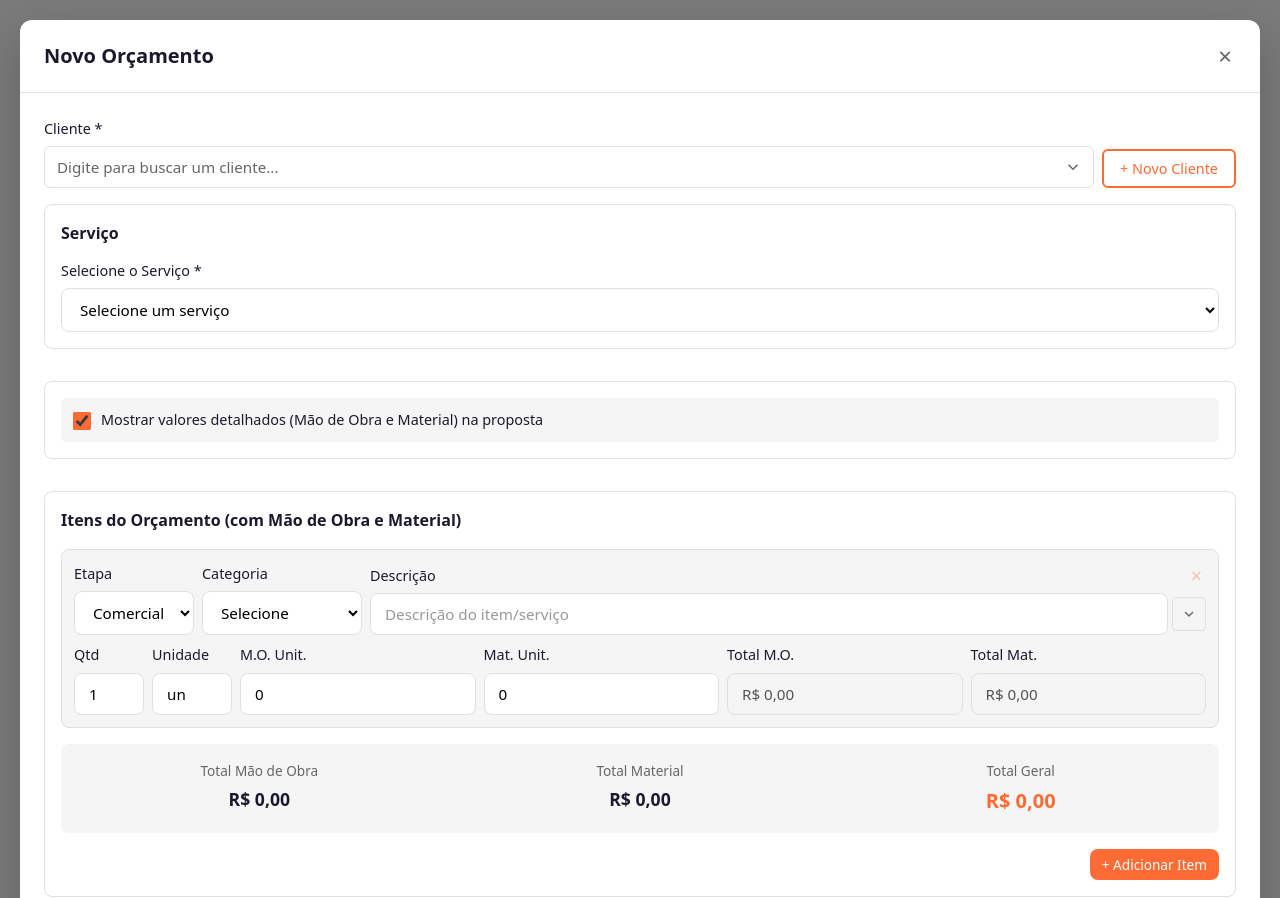
Test: OrcamentoModal › deve mostrar formulário de novo cliente ao clicar no botão
The width and height of the screenshot is (1280, 898).
Click the button "+ Novo Cliente". click: (1169, 168)
box: x1=1102 y1=149 x2=1236 y2=188
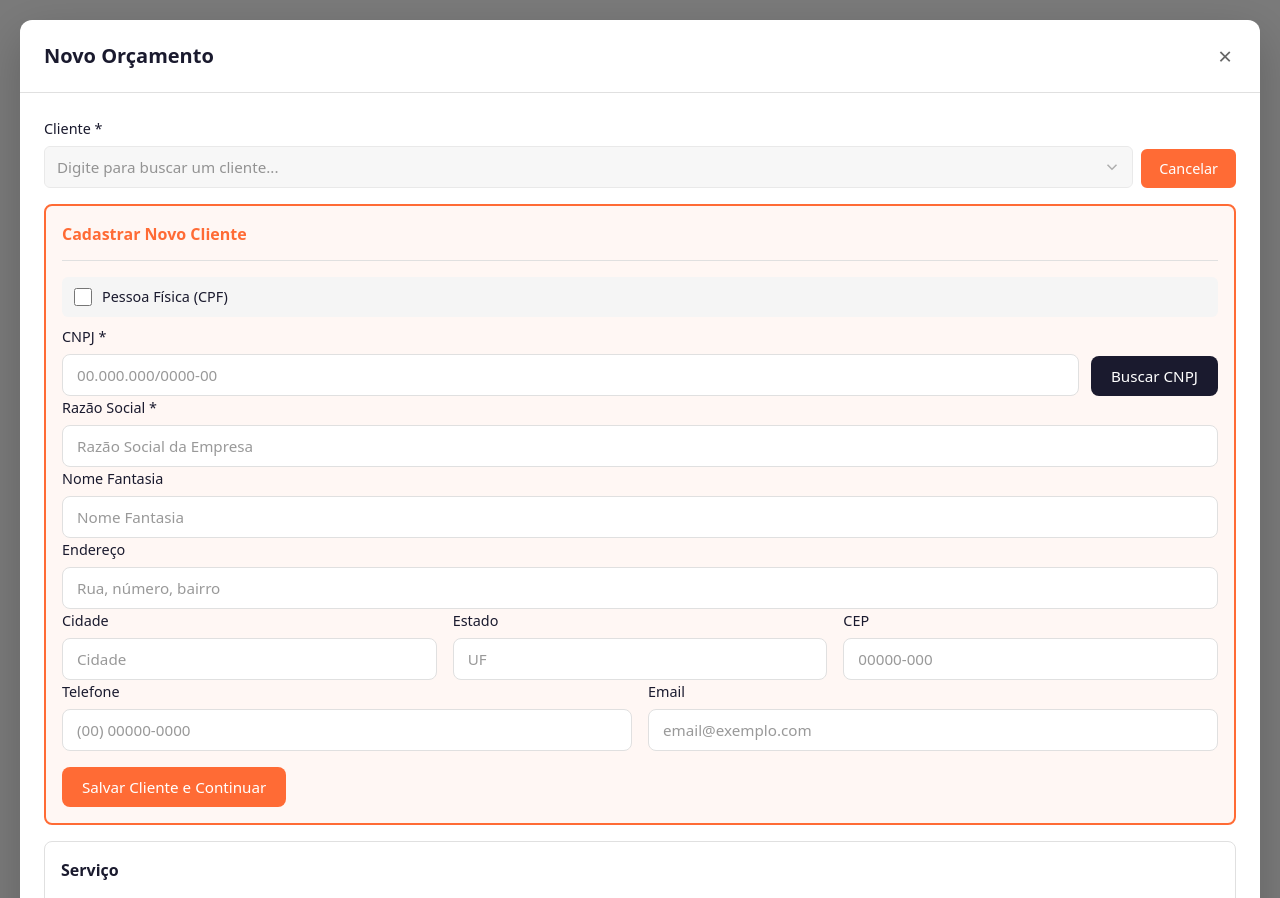
Result: the heading "Cadastrar Novo Cliente" is shown at x1=62 y1=222 x2=247 y2=248
